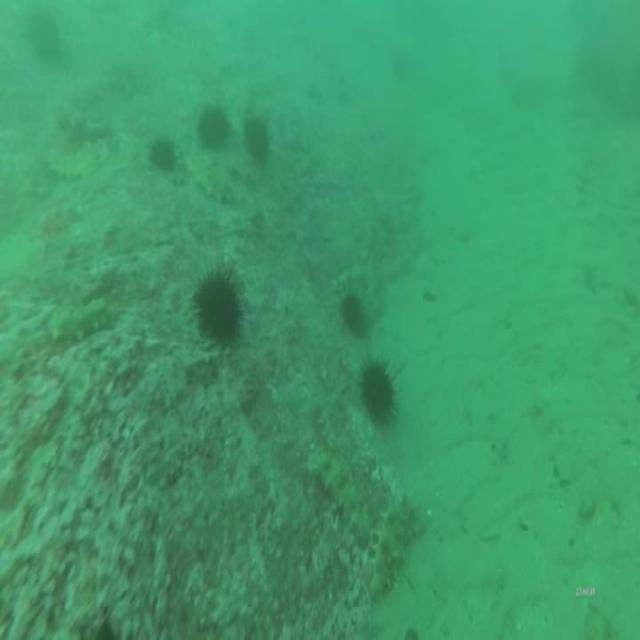echinus: (191, 260, 245, 348), (356, 352, 402, 437), (24, 6, 65, 73), (196, 100, 230, 160), (242, 110, 271, 168), (340, 281, 368, 340), (147, 133, 180, 180)
holothurian: (304, 439, 375, 550), (361, 488, 424, 606), (47, 291, 119, 354), (44, 134, 110, 187), (53, 92, 109, 148), (186, 155, 237, 207), (329, 259, 371, 299)
